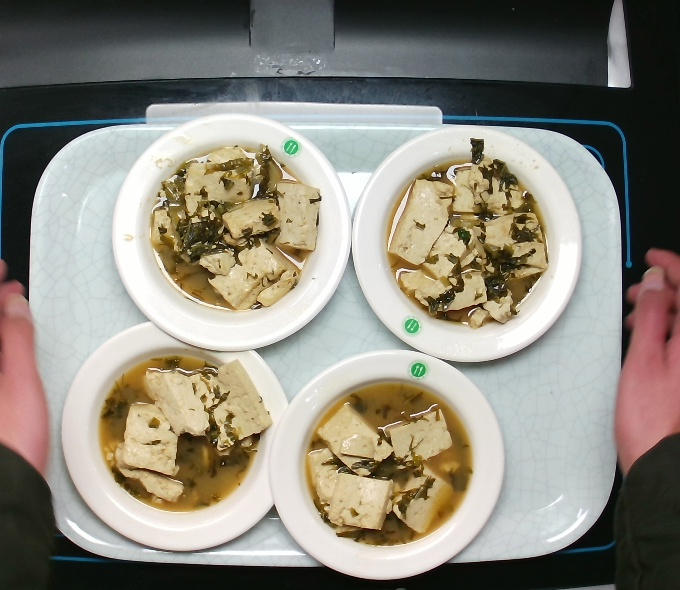wcq-XueCaiDouFu: (383, 156, 552, 327), (149, 142, 321, 310), (305, 377, 473, 547), (96, 353, 262, 515)
